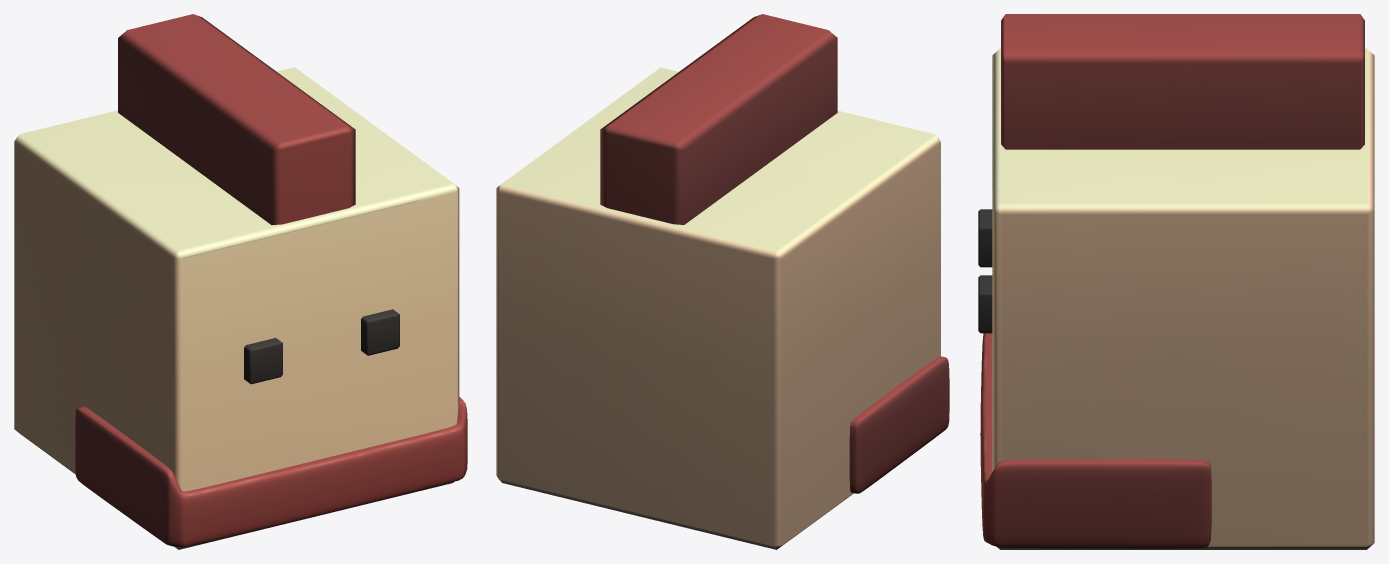
File: Head_01.glb
3 views of the same model, side by side, from view 1: azimuth 30°, elevation 25°; view 2: azimuth 150°, elevation 25°; view 3: azimuth 270°, elevation 25° (orthographic). The views are drawn at different scales.
Size of the model in its own units: 1.06 by 1.27 by 1.04.
Materials: 1 (1 with a texture image).
